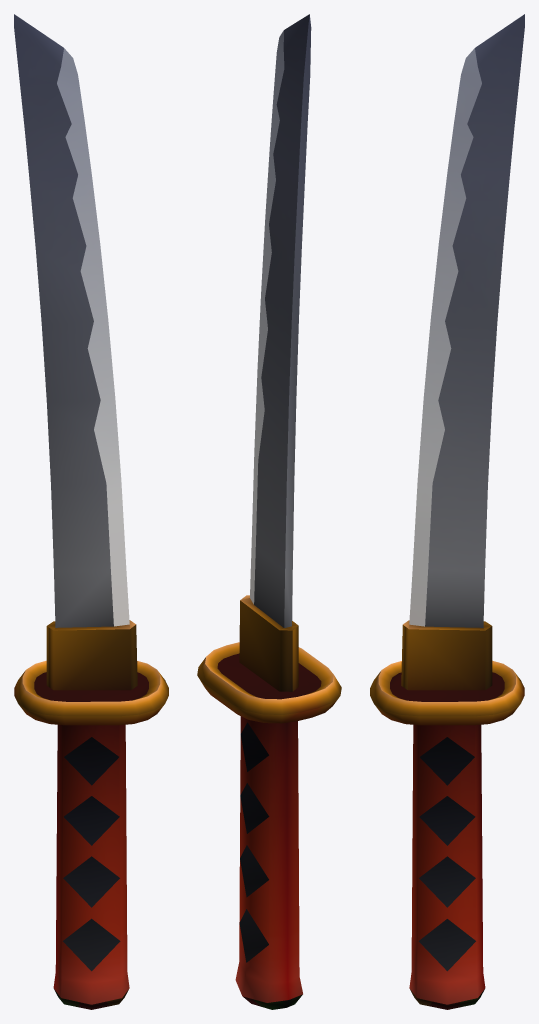
Rendered from ColdArms_Katana.gltf.
The picture shows the model from 3 angles, left to right: view 1: azimuth 90°, elevation 25°; view 2: azimuth 210°, elevation 25°; view 3: azimuth 270°, elevation 25°; orthographic projection. The views are drawn at different scales.
Parts seen in each view (by area): view 1: ColdArms_Katana; view 2: ColdArms_Katana; view 3: ColdArms_Katana.
Part boxes in pixels (x1,y1,x2,y2): ColdArms_Katana: (14,14,168,1009); ColdArms_Katana: (197,14,341,1009); ColdArms_Katana: (370,14,524,1009).
Bounding box in the file's own units: 0.135 × 1.28 × 0.1815.
2 materials, 2 textured.
